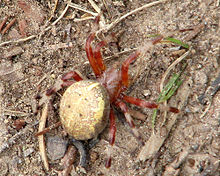spider: (31, 15, 190, 168)
